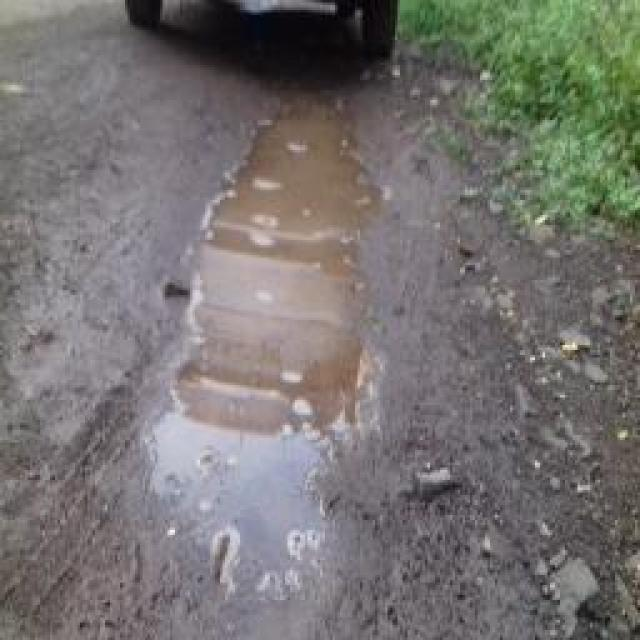puddle: (147, 97, 396, 586)
